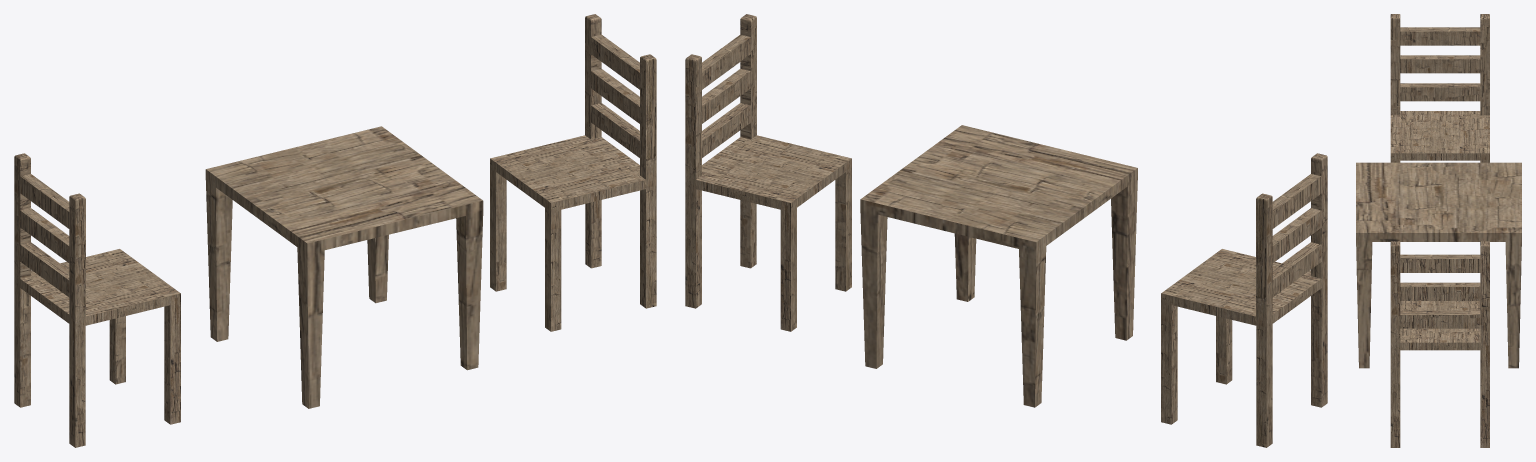
File: Table and Chairs.FBX
3 views of the same model, side by side, from view 1: azimuth 30°, elevation 25°; view 2: azimuth 150°, elevation 25°; view 3: azimuth 270°, elevation 25° (orthographic). The views are drawn at different scales.
Parts seen in each view (by area): view 1: Log Cabin Small Table, Log Cabin Chair 1, Log Cabin Chair 002; view 2: Log Cabin Small Table, Log Cabin Chair 1, Log Cabin Chair 002; view 3: Log Cabin Small Table, Log Cabin Chair 002, Log Cabin Chair 1.
Boxes of the visible parts, box(x1,y1,x2,y2) form: Log Cabin Small Table: box(205, 126, 483, 408); Log Cabin Chair 1: box(490, 14, 656, 331); Log Cabin Chair 002: box(14, 153, 180, 447); Log Cabin Small Table: box(860, 125, 1137, 407); Log Cabin Chair 1: box(685, 14, 851, 331); Log Cabin Chair 002: box(1161, 153, 1327, 447); Log Cabin Small Table: box(1356, 162, 1521, 368); Log Cabin Chair 002: box(1390, 14, 1489, 162); Log Cabin Chair 1: box(1390, 241, 1489, 447).
Size of the model in its own units: 130 by 53.15 by 39.37.
Materials: 1 (1 with a texture image).
